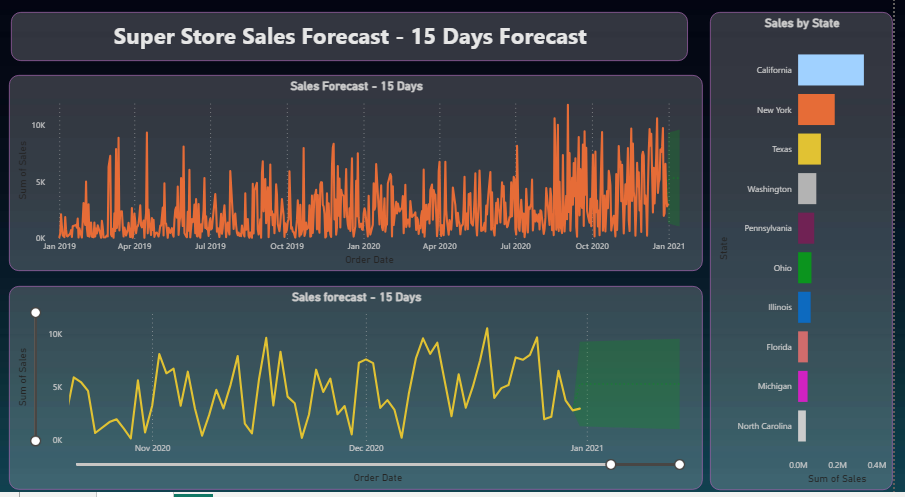

The dashboard page shown, as its layout file describes it:
{"tool":"powerbi","page":{"name":"Page 2","canvas":[1280,720],"ordinal":1},"visuals":[{"type":"lineChart","title":"Sales Forecast - 15 Days ","fields":{"Y":["Sum(SuperStore_Sales_Dataset.Sales)"],"Category":["SuperStore_Sales_Dataset.Order Date"]},"box":[17.1,115.7,991.4,280],"z":0},{"type":"lineChart","title":"Sales forecast - 15 Days","fields":{"Y":["Sum(SuperStore_Sales_Dataset.Sales)"],"Category":["SuperStore_Sales_Dataset.Order Date"]},"box":[17.1,417.1,991.4,291.4],"z":1000},{"type":"clusteredBarChart","title":"Sales by State","fields":{"Category":["SuperStore_Sales_Dataset.State"],"Y":["Sum(SuperStore_Sales_Dataset.Sales)"]},"box":[1018.6,25.7,261.4,682.9],"z":2000},{"type":"textbox","box":[20,25.7,967.1,70],"z":3000}]}

Visuals, with their boxes in screenshot pixels (x1, y1, x2, y2), scaled from the page's 1280x720 canvas onto the 905x497 screenshot:
"Sales Forecast - 15 Days " lineChart: (12, 80, 713, 273)
"Sales forecast - 15 Days" lineChart: (12, 288, 713, 489)
"Sales by State" clusteredBarChart: (720, 18, 904, 489)
textbox: (14, 18, 698, 66)
